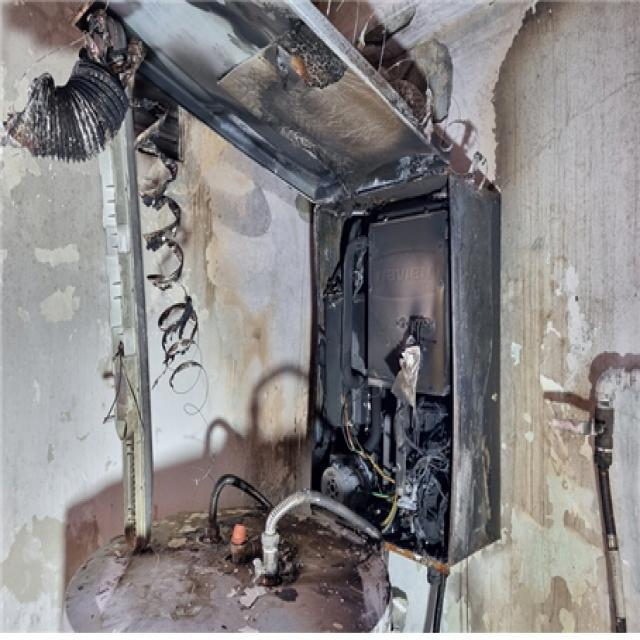Boiler: (92, 0, 534, 598)
